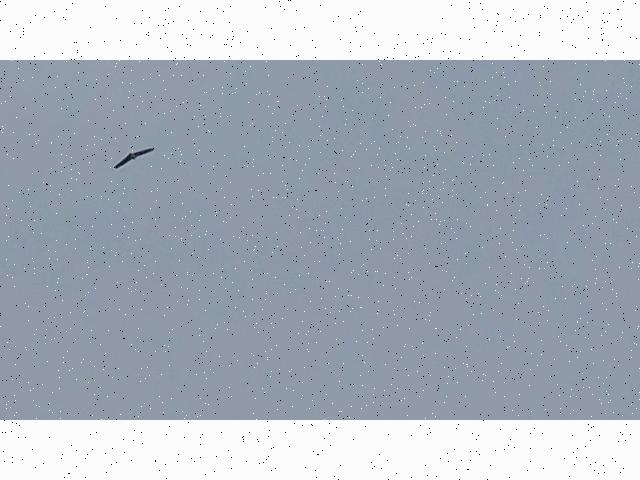Anti-Drone: (114, 147, 154, 169)
